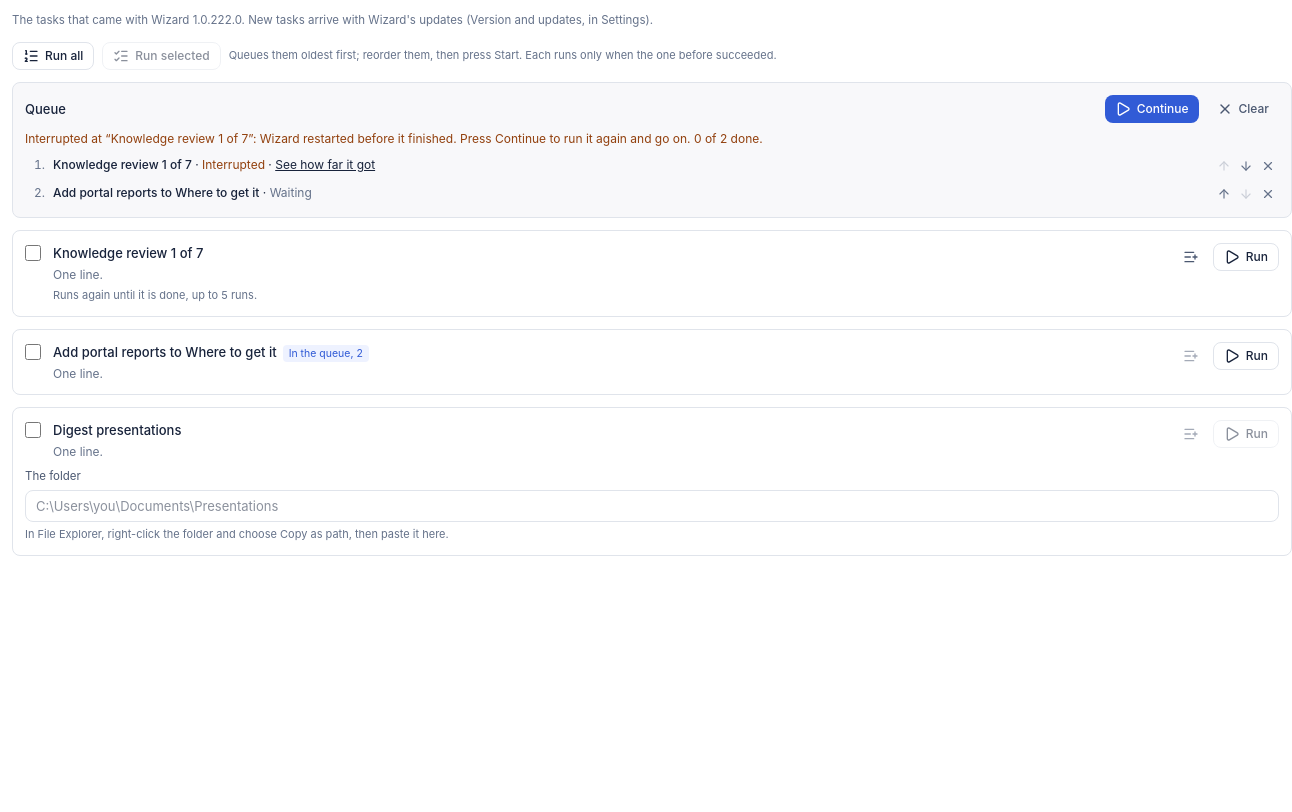
Test: Settings → Tasks: the queue › offers Continue and Clear after a restart interrupted the queue
This screenshot has width=1292, height=812.
Check: the element with test id "queue-status" shows "Interrupted at “Knowledge review 1 of 7”", box [25, 131, 690, 146]
Check: the button with test id "queue-continue" is shown, box [1105, 95, 1199, 123]
Click the button with test id "queue-clear".
click(1243, 109)  # box [1206, 95, 1279, 123]
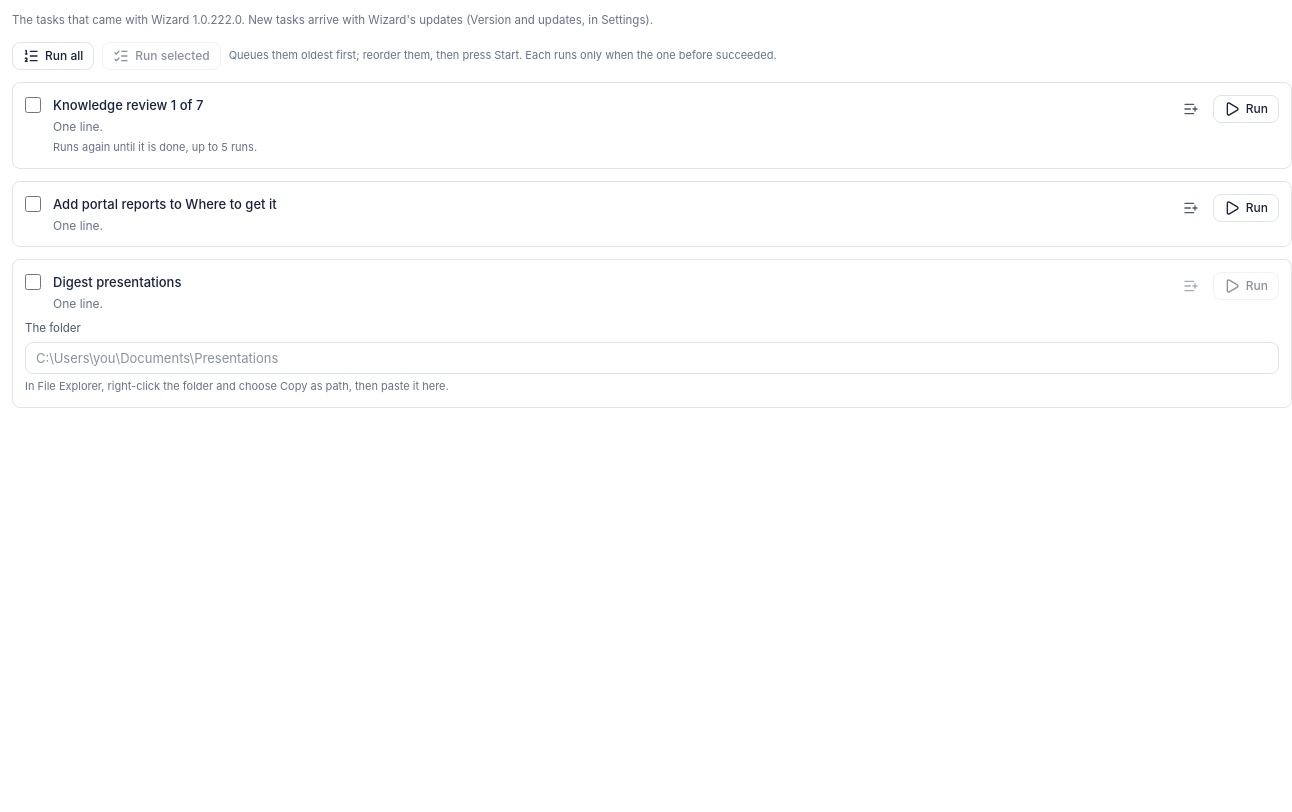
Check: the element with test id "task-queue" is gone
